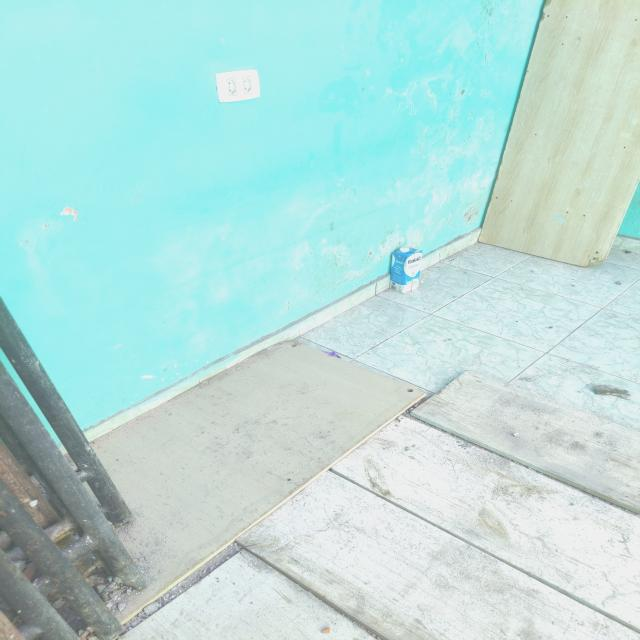Caixa de Leite: (388, 246, 423, 294)
